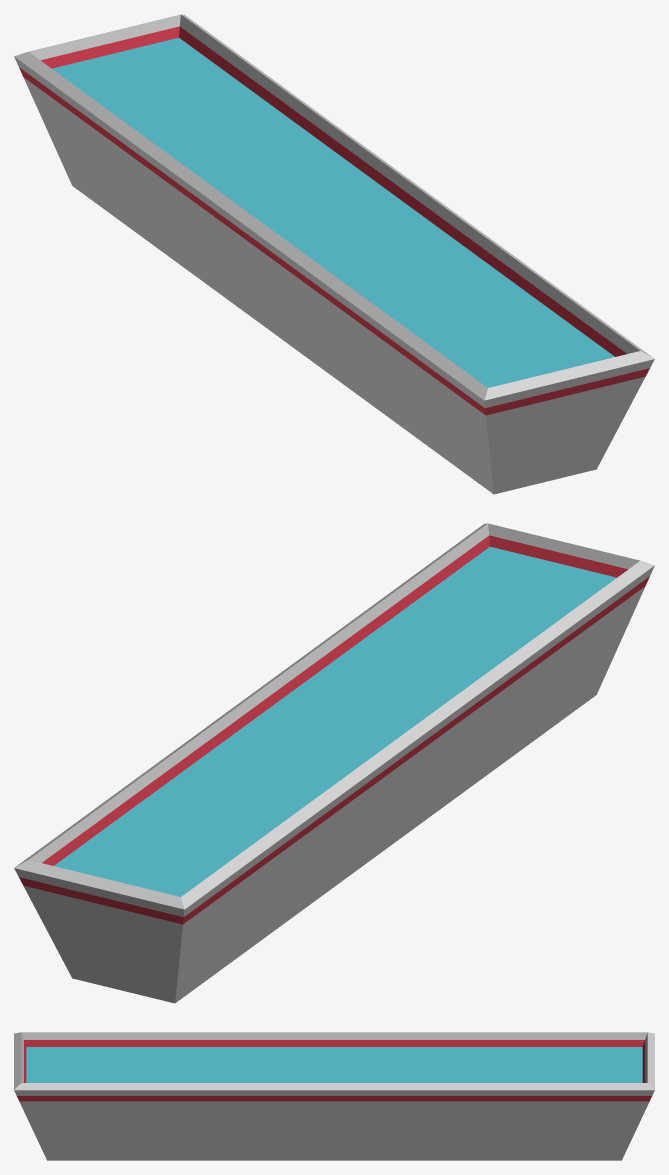
File: trough.fbx
3 renders of one model, top to bottom at view 1: azimuth 30°, elevation 25°; view 2: azimuth 150°, elevation 25°; view 3: azimuth 270°, elevation 25°, orthographic. The views are drawn at different scales.
Parts seen in each view (by area): view 1: trough, Water full; view 2: trough, Water full; view 3: trough, Water full.
Part boxes in pixels (<box>): trough: <box>14,14,654,494</box>; Water full: <box>52,37,614,387</box>; trough: <box>14,523,654,1003</box>; Water full: <box>54,546,616,896</box>; trough: <box>14,1032,654,1160</box>; Water full: <box>26,1047,642,1082</box>.
Size of the model in its own units: 297 by 211 by 1421.
